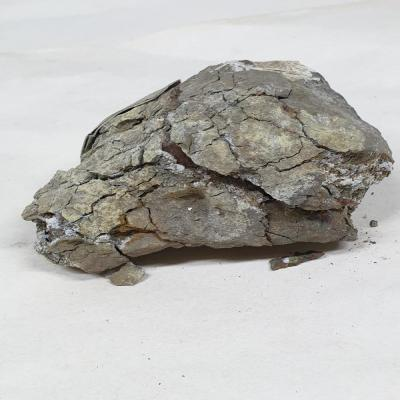mineralogy: (21, 60, 394, 287)
